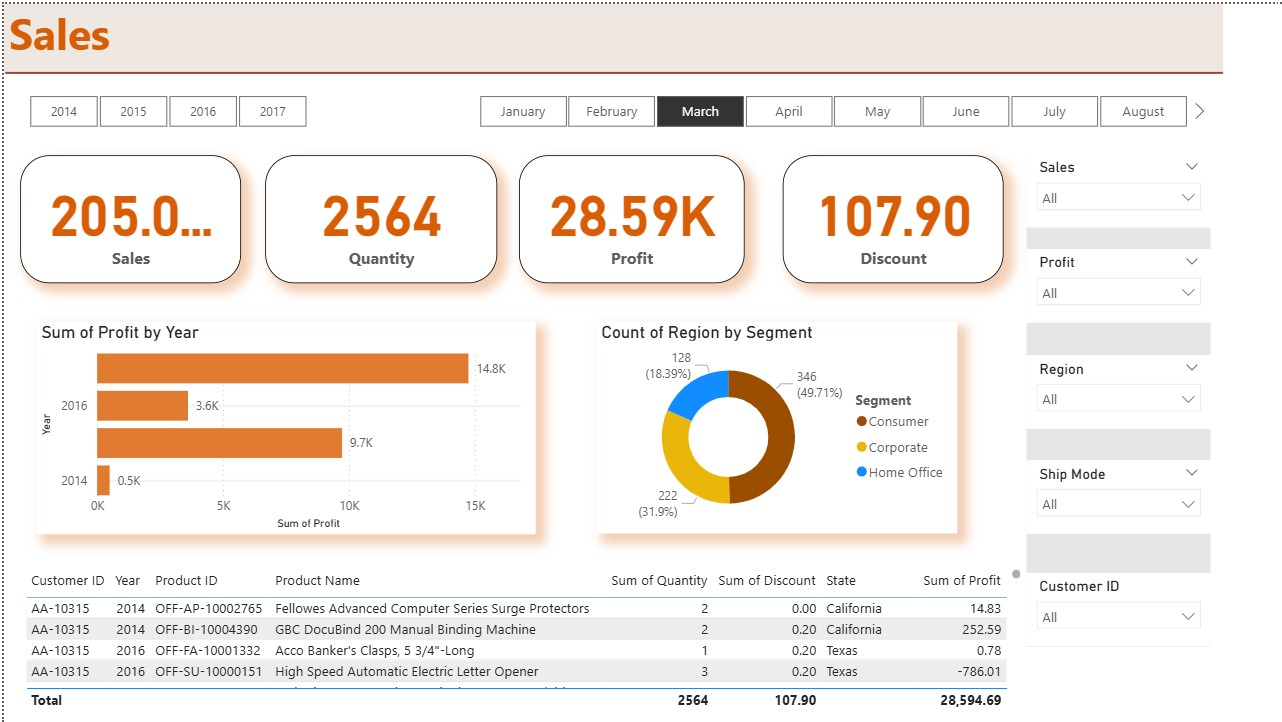

The page's visual inventory and layout, read from the dashboard file:
{"tool":"powerbi","page":{"name":"Page 6","canvas":[1280,720],"ordinal":5},"visuals":[{"type":"textbox","box":[0,0,1218.9,68.9],"z":0},{"type":"slicer","fields":{"Values":["Orders.Sales"]},"box":[1022.2,150,184.4,73.3],"z":0,"group":"g2"},{"type":"card","fields":{"Values":["Sum(Orders.Sales)"]},"box":[16.7,151.1,221.1,127.8],"z":0,"group":"g1"},{"type":"shape","box":[1.1,40,1217.8,57.8],"z":1000},{"type":"card","fields":{"Values":["Sum(Orders.Quantity)"]},"box":[261.1,151.1,232.2,127.8],"z":1000,"group":"g1"},{"type":"slicer","fields":{"Values":["Orders.Profit"]},"box":[1022.2,244.4,184.4,73.3],"z":1000,"group":"g2"},{"type":"slicer","fields":{"Values":["Orders.Order Date.Variation.Date Hierarchy.Year"]},"box":[0,84.4,326.7,44.4],"z":2000},{"type":"card","fields":{"Values":["Sum(Orders.Profit)"]},"box":[515.1,151.1,225.6,127.8],"z":2000,"group":"g1"},{"type":"slicer","fields":{"Values":["Orders.Region"]},"box":[1022.2,351.1,184.4,73.3],"z":2000,"group":"g2"},{"type":"slicer","fields":{"Values":["Orders.Order Date.Variation.Date Hierarchy.Month"]},"box":[450,84.4,756.7,44.4],"z":3000},{"type":"card","fields":{"Values":["Sum(Orders.Discount)"]},"box":[779.6,151.1,221.1,127.8],"z":3000,"group":"g1"},{"type":"slicer","fields":{"Values":["Orders.Ship Mode"]},"box":[1022.2,456.7,184.4,73.3],"z":3000,"group":"g2"},{"type":"group","id":"g1","title":"Group 1","box":[16.7,151.1,984.4,127.8],"z":4000},{"type":"slicer","fields":{"Values":["Orders.Customer ID"]},"box":[1022.2,568.9,184.4,73.3],"z":4000,"group":"g2"},{"type":"barChart","fields":{"Category":["Orders.Order Date.Variation.Date Hierarchy.Year"],"Y":["Sum(Orders.Profit)"]},"box":[21.1,317.8,498.9,212.2],"z":5000},{"type":"donutChart","fields":{"Y":["CountNonNull(Orders.Region)"],"Category":["Orders.Segment"]},"box":[592.2,317.8,361.1,212.2],"z":6000},{"type":"tableEx","fields":{"Values":["Orders.Customer ID","Orders.Order Date.Variation.Date Hierarchy.Year","Orders.Product ID","Orders.Product Name","Sum(Orders.Quantity)","Sum(Orders.Discount)","Orders.State","Sum(Orders.Profit)"]},"box":[16.7,560,1005.6,150],"z":7000},{"type":"group","id":"g2","title":"Group 2","box":[1022.2,150,184.4,493.3],"z":8000}]}

Visuals, with their boxes in screenshot pixels (x1, y1, x2, y2), scaled from the page's 1280x720 canvas onto the 1282x722 screenshot:
textbox: detection(0, 0, 1221, 69)
slicer - Orders.Sales: detection(1024, 150, 1208, 224)
card - Sum(Orders.Sales): detection(17, 152, 238, 280)
shape: detection(1, 40, 1221, 98)
card - Sum(Orders.Quantity): detection(262, 152, 494, 280)
slicer - Orders.Profit: detection(1024, 245, 1208, 319)
slicer - Orders.Order Date.Variation.Date Hierarchy.Year: detection(0, 85, 327, 129)
card - Sum(Orders.Profit): detection(516, 152, 742, 280)
slicer - Orders.Region: detection(1024, 352, 1208, 426)
slicer - Orders.Order Date.Variation.Date Hierarchy.Month: detection(451, 85, 1209, 129)
card - Sum(Orders.Discount): detection(781, 152, 1002, 280)
slicer - Orders.Ship Mode: detection(1024, 458, 1208, 531)
"Group 1" group: detection(17, 152, 1003, 280)
slicer - Orders.Customer ID: detection(1024, 570, 1208, 644)
barChart - Orders.Order Date.Variation.Date Hierarchy.Year x Sum(Orders.Profit): detection(21, 319, 521, 531)
donutChart - CountNonNull(Orders.Region) x Orders.Segment: detection(593, 319, 955, 531)
tableEx - Orders.Customer ID x Orders.Order Date.Variation.Date Hierarchy.Year: detection(17, 562, 1024, 712)
"Group 2" group: detection(1024, 150, 1208, 645)
